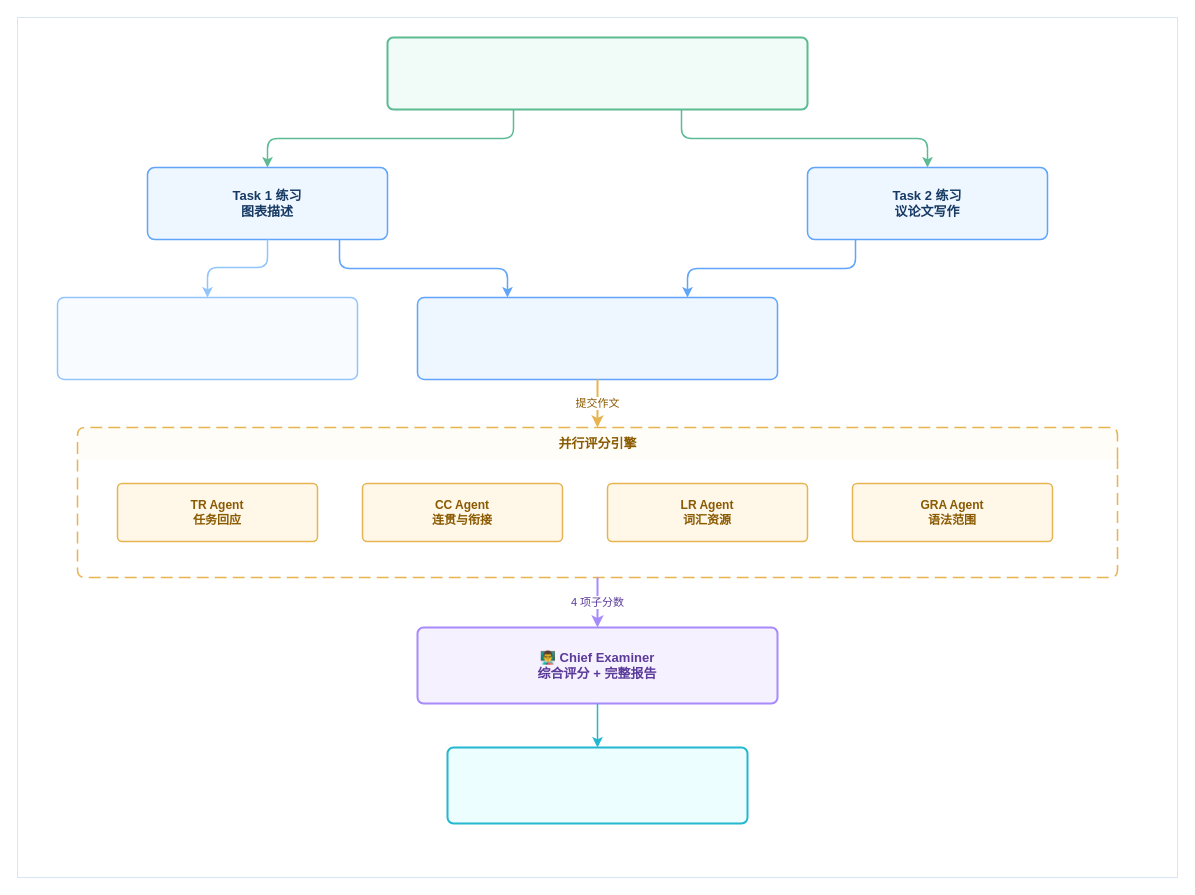
This 1195x895 diagram has some shape labels left out. Here are the shapes that lost their labels. From the top down, the centre of each, then its label:
At [597,73]: "📋 题库系统 JSON 缓存 + AI 生成 + 热更新".
At [207,338]: "📊 图表渲染引擎 ECharts / D3.js / Mermaid / Table".
At [597,338]: "📝 写作编辑器 字数统计 / 计时器".
At [597,785]: "📜 历史记录 评分回顾".
